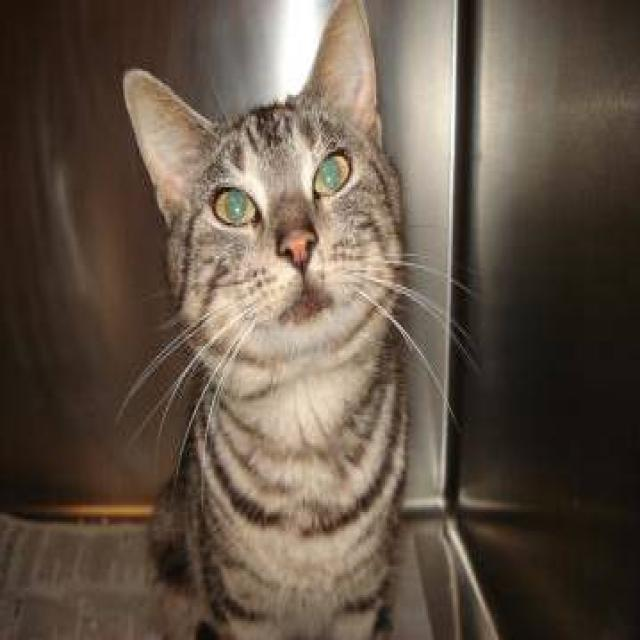cat: (114, 0, 480, 638)
